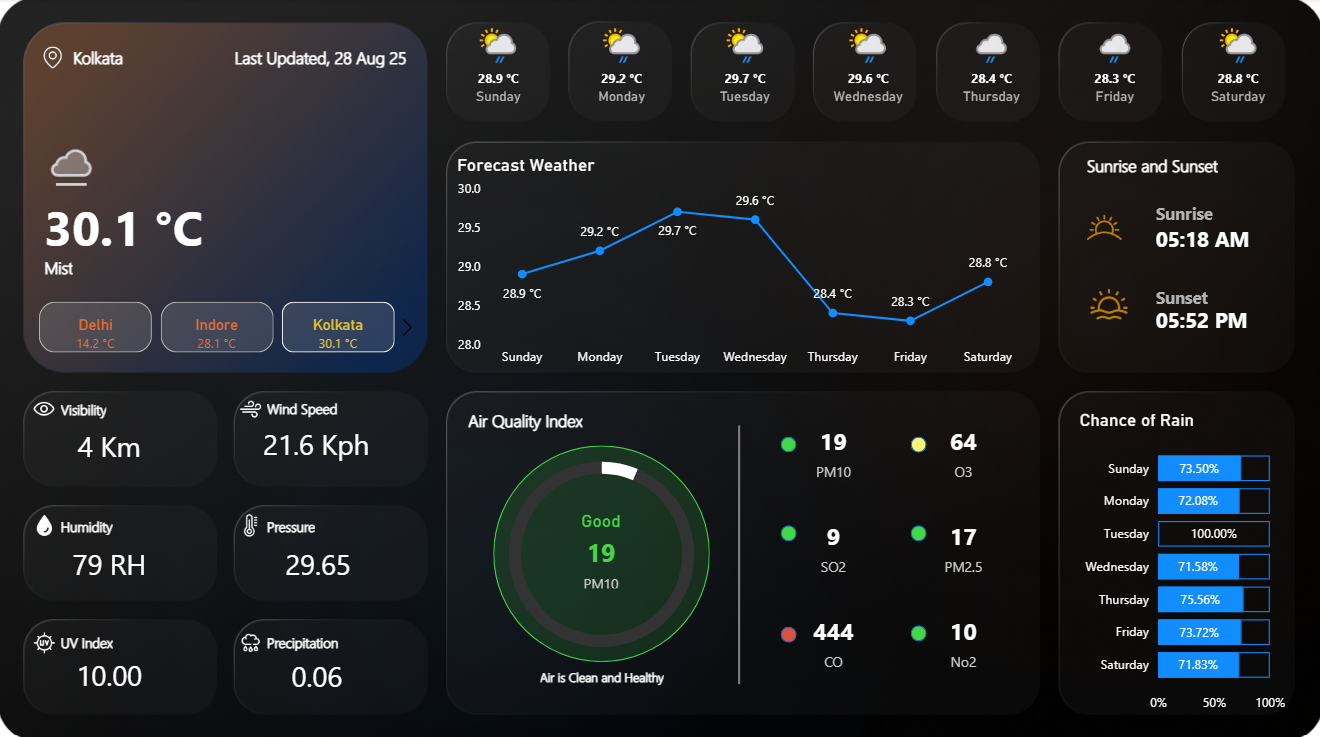

This screenshot's page, from the dashboard's own definition file:
{"tool":"powerbi","page":{"name":"Current","canvas":[1280,720],"ordinal":0},"visuals":[{"type":"advancedSlicerVisual","fields":{"Values":["Locations.location.name"]},"box":[15.1,288.3,395.1,59.5],"z":0},{"type":"shape","box":[45.5,228.9,268.6,59.6],"z":1000},{"type":"shape","box":[45.5,189.2,161.2,59.6],"z":2000},{"type":"shape","box":[73.6,26.9,252.3,59.6],"z":3000},{"type":"shape","box":[126.1,26.9,268.6,59.6],"z":4000},{"type":"image","box":[33.9,42,39.7,30.4],"z":5000},{"type":"cardVisual","fields":{"Data":["Min(Current.current.condition.icon)"]},"box":[23.4,112.1,102.8,98.1],"z":6000},{"type":"image","box":[29.2,379.6,32.7,32.7],"z":7000},{"type":"shape","box":[61.9,380.7,77.1,32.7],"z":8000},{"type":"image","box":[228.9,380.7,31.5,31.5],"z":9000},{"type":"image","box":[30.4,492.8,31.5,31.5],"z":10000},{"type":"image","box":[228.9,492.8,31.5,31.5],"z":11000},{"type":"image","box":[30.4,607.3,31.5,31.5],"z":12000},{"type":"image","box":[228.9,607.3,31.5,31.5],"z":13000},{"type":"shape","box":[61.9,492.8,77.1,32.7],"z":14000},{"type":"shape","box":[61.9,606.1,77.1,32.7],"z":15000},{"type":"shape","box":[260.4,606.1,77.1,32.7],"z":16000},{"type":"shape","box":[260.4,492.8,77.1,32.7],"z":17000},{"type":"shape","box":[260.4,379.6,96.9,32.7],"z":18000},{"type":"card","fields":{"Values":["_Measures.Humidity"]},"box":[33.9,473,149.5,149.5],"z":19000},{"type":"card","fields":{"Values":["_Measures.Wind_Speed"]},"box":[234,357.1,148.4,149.6],"z":20000},{"type":"card","fields":{"Values":["Sum(Current.current.uv)"]},"box":[33.9,595.6,149.5,118],"z":21000},{"type":"card","fields":{"Values":["Sum(Current.current.precip_in)"]},"box":[234.7,598,147.2,114.5],"z":22000},{"type":"card","fields":{"Values":["Sum(Current.current.pressure_in)"]},"box":[234.7,473,149.5,149.5],"z":23000},{"type":"card","fields":{"Values":["_Measures.Visibility"]},"box":[33.9,359.7,149.5,149.5],"z":24000},{"type":"advancedSlicerVisual","fields":{"Values":["Forecast_Day.Day_Name"]},"box":[423.9,16.4,835,103.9],"z":25000},{"type":"lineChart","title":"Forecast Weather","fields":{"Y":["Sum(Forecast_Day.forecast.forecastday.day.avgtemp_c)"],"Category":["Forecast_Day.Day_Name"]},"box":[439.1,150.8,552.5,213.5],"z":26000},{"type":"shape","box":[1052,146,170.1,30.2],"z":27000},{"type":"shape","box":[1118.8,185.7,107.4,43.2],"z":28000},{"type":"shape","box":[1118.8,288.5,161.2,43.2],"z":29000},{"type":"shape","box":[1118.8,210.2,161.2,43.2],"z":30000},{"type":"shape","box":[1118.8,266.3,103.9,43.2],"z":31000},{"type":"image","box":[1039.4,193.9,58.4,54.9],"z":32000},{"type":"image","box":[1049.9,272.1,47.9,45.5],"z":33000},{"type":"hundredPercentStackedBarChart","title":"Chance of Rain","fields":{"Y":["Avg(Forecast_Day.forecast.forecastday.day.daily_chance_of_rain)","_Measures.Left_value_Rain"],"Category":["Forecast_Day.Day_Name"]},"box":[1040,396.9,208.7,301.6],"z":34000},{"type":"shape","box":[454.8,392.1,258.2,31.4],"z":35000},{"type":"card","fields":{"Values":["Sum(Current.current.air_quality.pm10)"]},"box":[765,400.6,85.3,74.7],"z":36000},{"type":"card","fields":{"Values":["Sum(Current.current.air_quality.no2)"]},"box":[889.9,583.9,85.3,74.7],"z":37000},{"type":"card","fields":{"Values":["Sum(Current.current.air_quality.co)"]},"box":[765,583.9,85.3,74.7],"z":38000},{"type":"card","fields":{"Values":["Sum(Current.current.air_quality.pm2_5)"]},"box":[889.9,491.7,85.3,74.7],"z":39000},{"type":"card","fields":{"Values":["Sum(Current.current.air_quality.so2)"]},"box":[765,491.7,85.3,74.7],"z":40000},{"type":"card","fields":{"Values":["Sum(Current.current.air_quality.o3)"]},"box":[889.9,400.6,85.3,74.7],"z":41000},{"type":"shape","box":[756.9,423.9,15,15],"z":42000},{"type":"shape","box":[881.8,509.2,15.2,15.2],"z":43000},{"type":"shape","box":[881.8,606.1,15.2,15.2],"z":44000},{"type":"shape","box":[881.8,423.9,15.2,15.2],"z":45000},{"type":"shape","box":[756.8,509.2,15.2,15.2],"z":46000},{"type":"shape","box":[756.8,607.3,15.2,15.2],"z":47000},{"type":"shape","box":[668,412.3,95.8,249.9],"z":48000},{"type":"shape","box":[478.8,432.1,209.1,209.1],"z":49000},{"type":"card","fields":{"Values":["Sum(Current.current.air_quality.pm10)"]},"box":[540.7,495.2,85.3,80.6],"z":50000},{"type":"donutChart","fields":{"Y":["Sum(Current.current.air_quality.pm10)","_Measures.Left Value PM10"]},"box":[467.2,416.9,233.6,239.4],"z":51000},{"type":"shape","box":[454.3,640,258.1,31.5],"z":52000}]}

Visuals, with their boxes in screenshot pixels (x1, y1, x2, y2), scaled from the page's 1280x720 canvas onto the 1320x737 screenshot:
advancedSlicerVisual - Locations.location.name: (left=16, top=295, right=423, bottom=356)
shape: (left=47, top=234, right=324, bottom=295)
shape: (left=47, top=194, right=213, bottom=255)
shape: (left=76, top=28, right=336, bottom=89)
shape: (left=130, top=28, right=407, bottom=89)
image: (left=35, top=43, right=76, bottom=74)
cardVisual - Min(Current.current.condition.icon): (left=24, top=115, right=130, bottom=215)
image: (left=30, top=389, right=64, bottom=422)
shape: (left=64, top=390, right=143, bottom=423)
image: (left=236, top=390, right=269, bottom=422)
image: (left=31, top=504, right=64, bottom=537)
image: (left=236, top=504, right=269, bottom=537)
image: (left=31, top=622, right=64, bottom=654)
image: (left=236, top=622, right=269, bottom=654)
shape: (left=64, top=504, right=143, bottom=538)
shape: (left=64, top=620, right=143, bottom=654)
shape: (left=269, top=620, right=348, bottom=654)
shape: (left=269, top=504, right=348, bottom=538)
shape: (left=269, top=389, right=368, bottom=422)
card - _Measures.Humidity: (left=35, top=484, right=189, bottom=637)
card - _Measures.Wind_Speed: (left=241, top=366, right=394, bottom=519)
card - Sum(Current.current.uv): (left=35, top=610, right=189, bottom=730)
card - Sum(Current.current.precip_in): (left=242, top=612, right=394, bottom=729)
card - Sum(Current.current.pressure_in): (left=242, top=484, right=396, bottom=637)
card - _Measures.Visibility: (left=35, top=368, right=189, bottom=521)
advancedSlicerVisual - Forecast_Day.Day_Name: (left=437, top=17, right=1298, bottom=123)
"Forecast Weather" lineChart: (left=453, top=154, right=1023, bottom=373)
shape: (left=1085, top=149, right=1260, bottom=180)
shape: (left=1154, top=190, right=1265, bottom=234)
shape: (left=1154, top=295, right=1319, bottom=340)
shape: (left=1154, top=215, right=1319, bottom=259)
shape: (left=1154, top=273, right=1261, bottom=317)
image: (left=1072, top=198, right=1132, bottom=255)
image: (left=1083, top=279, right=1132, bottom=325)
"Chance of Rain" hundredPercentStackedBarChart: (left=1072, top=406, right=1288, bottom=715)
shape: (left=469, top=401, right=735, bottom=433)
card - Sum(Current.current.air_quality.pm10): (left=789, top=410, right=877, bottom=487)
card - Sum(Current.current.air_quality.no2): (left=918, top=598, right=1006, bottom=674)
card - Sum(Current.current.air_quality.co): (left=789, top=598, right=877, bottom=674)
card - Sum(Current.current.air_quality.pm2_5): (left=918, top=503, right=1006, bottom=580)
card - Sum(Current.current.air_quality.so2): (left=789, top=503, right=877, bottom=580)
card - Sum(Current.current.air_quality.o3): (left=918, top=410, right=1006, bottom=487)
shape: (left=781, top=434, right=796, bottom=449)
shape: (left=909, top=521, right=925, bottom=537)
shape: (left=909, top=620, right=925, bottom=636)
shape: (left=909, top=434, right=925, bottom=449)
shape: (left=780, top=521, right=796, bottom=537)
shape: (left=780, top=622, right=796, bottom=637)
shape: (left=689, top=422, right=788, bottom=678)
shape: (left=494, top=442, right=709, bottom=656)
card - Sum(Current.current.air_quality.pm10): (left=558, top=507, right=646, bottom=589)
donutChart - Sum(Current.current.air_quality.pm10) x _Measures.Left Value PM10: (left=482, top=427, right=723, bottom=672)
shape: (left=468, top=655, right=735, bottom=687)
